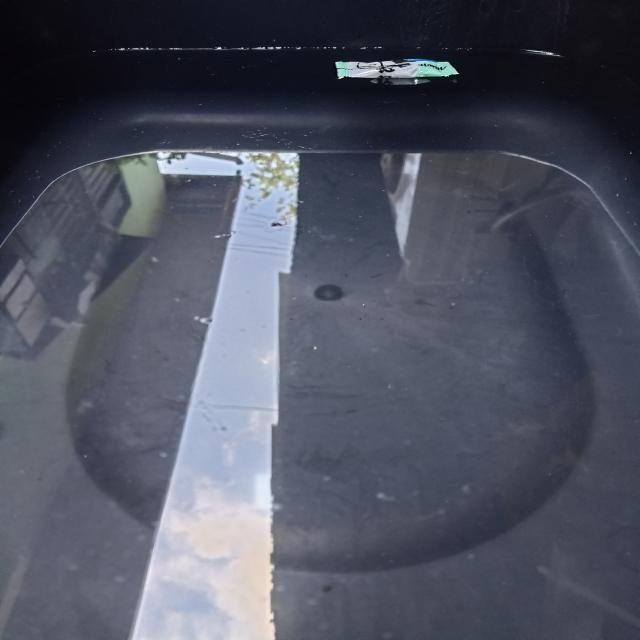Plastic Wrapper: (335, 59, 459, 85)
